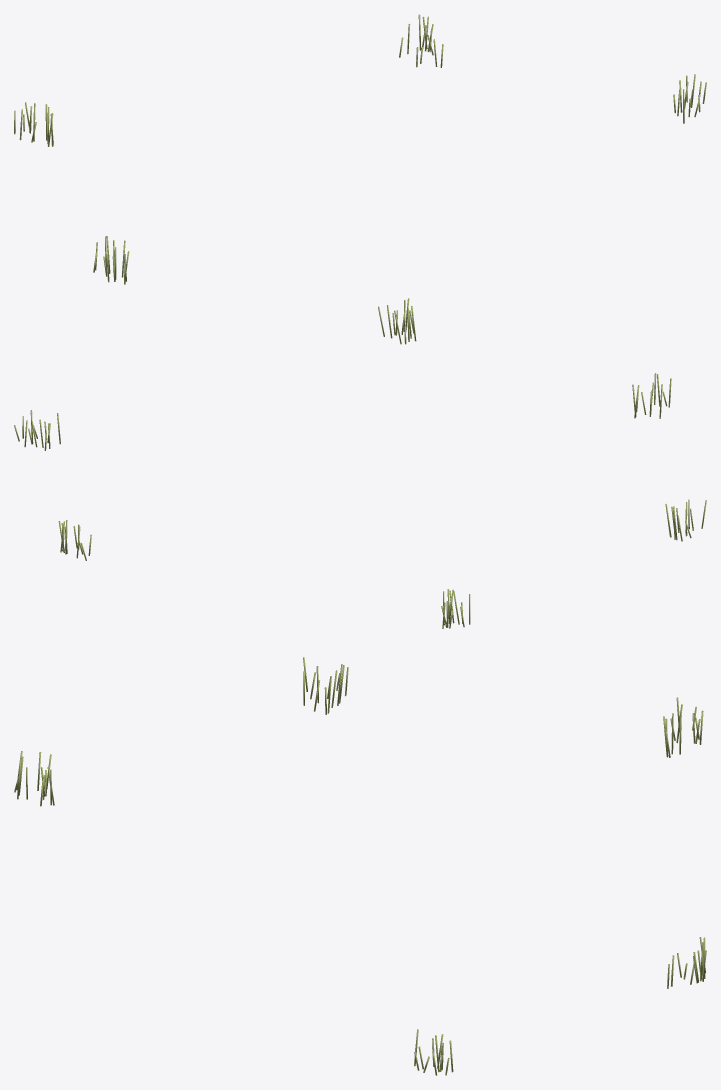
Rendered from SM_OasisReeds.fbx.
3 views of the same model, one above another, from view 1: azimuth 30°, elevation 25°; view 2: azimuth 150°, elevation 25°; view 3: azimuth 270°, elevation 25° (orthographic). The views are drawn at different scales.
Parts seen in each view (by area): view 1: SM_OasisReeds_Export; view 2: SM_OasisReeds_Export; view 3: SM_OasisReeds_Export.
Part boxes in pixels (x1,y1,x2,y2): SM_OasisReeds_Export: (14, 14, 706, 344); SM_OasisReeds_Export: (14, 373, 706, 628); SM_OasisReeds_Export: (14, 657, 706, 1075).
Size of the model in its own units: 2362 by 1910 by 214.
